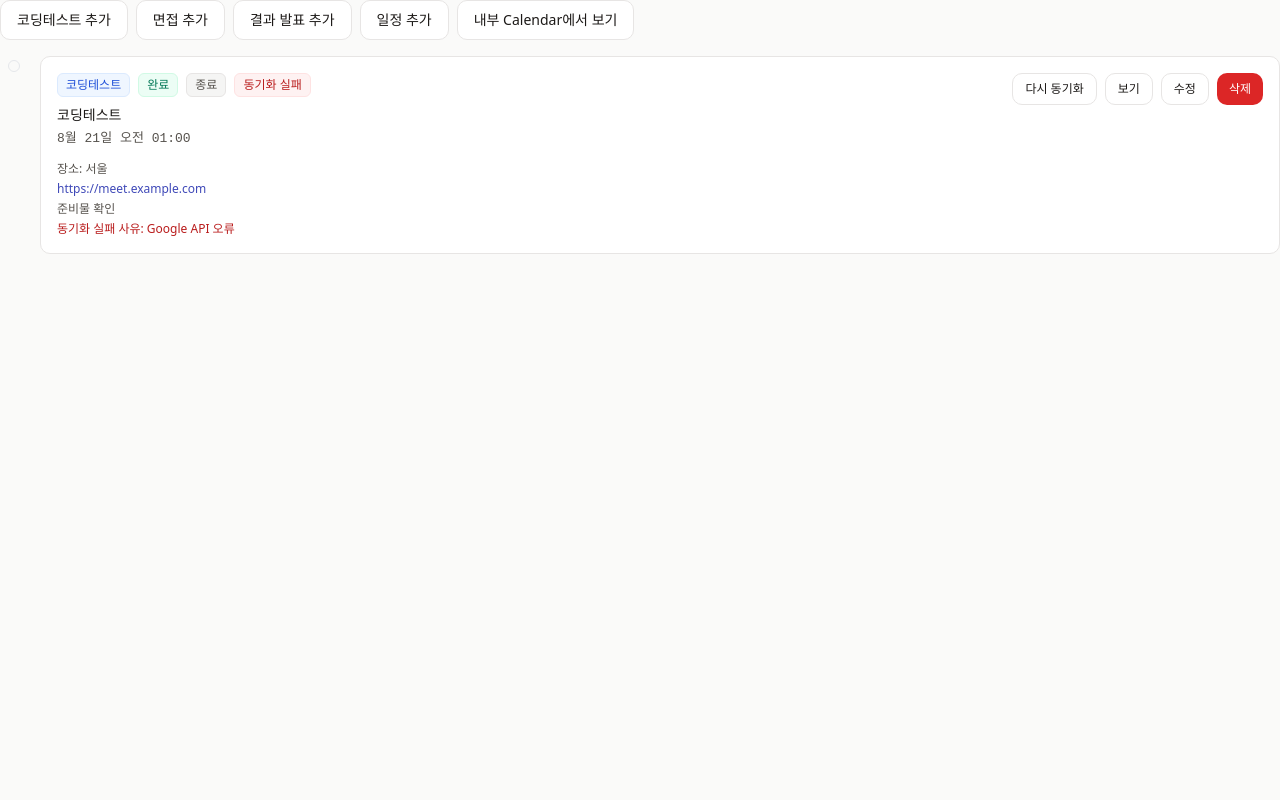
Test: ApplicationRecruitmentTimeline › requests Google Calendar resync for failed events
Click the button "다시 동기화": (1055, 89) [1012, 73, 1097, 105]
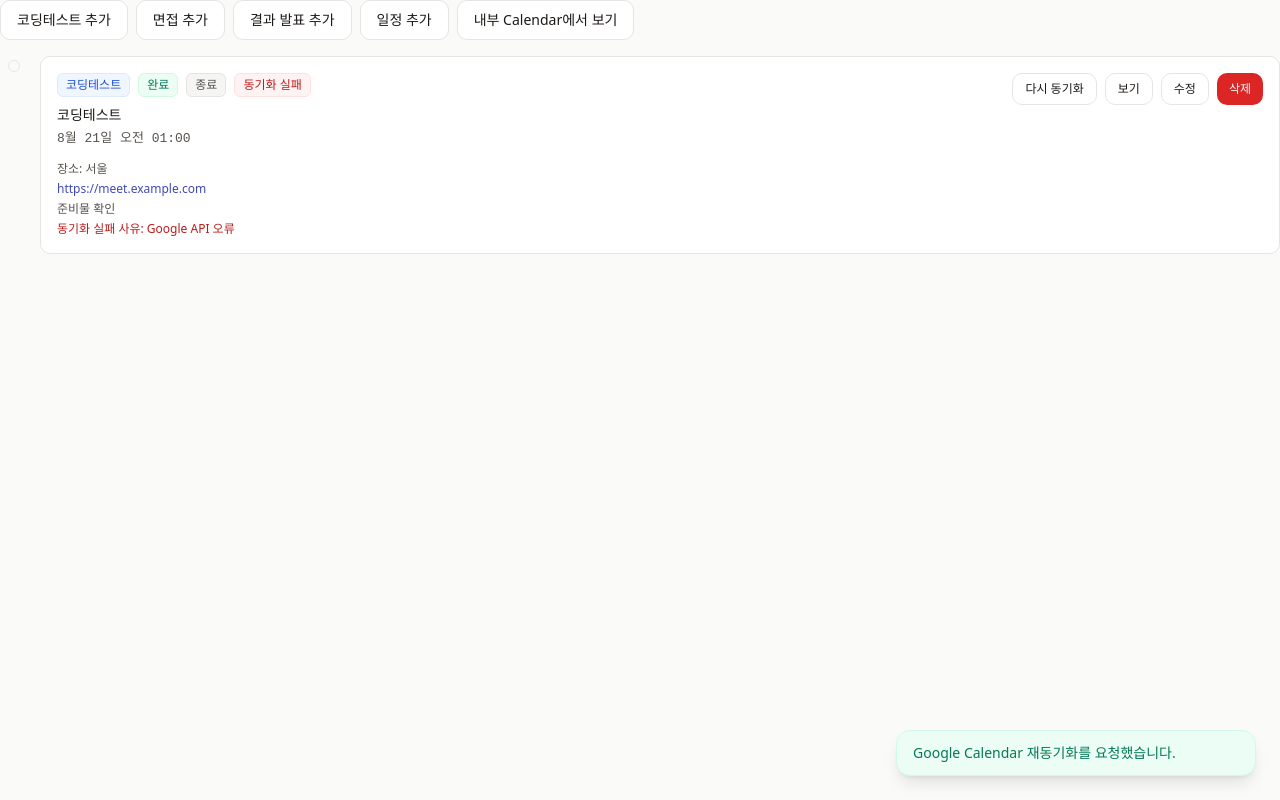
Expected: the text "Google Calendar 재동기화를 요청했습니다." is shown, [896, 730, 1256, 776]
